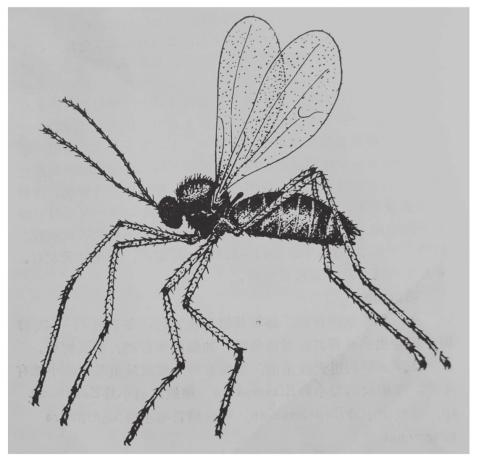Cecidomyiidae: (33, 15, 451, 443)
